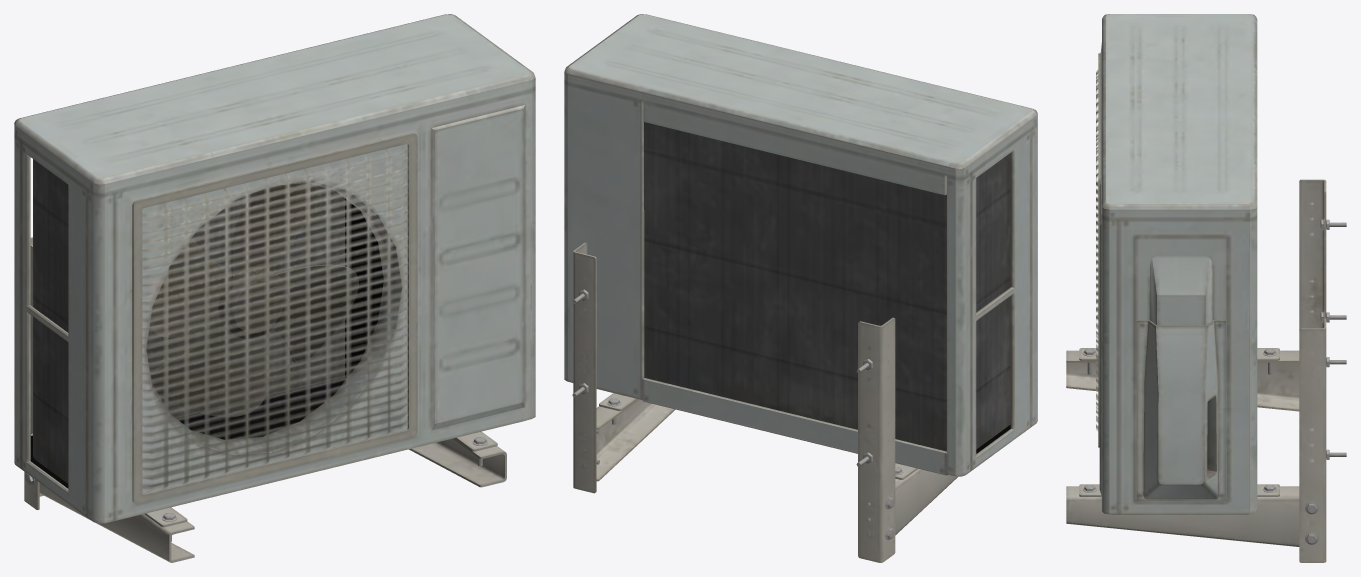
The model's file is ac-condenser.glb.
3 renders of one model, left to right at view 1: azimuth 30°, elevation 25°; view 2: azimuth 150°, elevation 25°; view 3: azimuth 270°, elevation 25°, orthographic. The views are drawn at different scales.
Parts seen in each view (by area): view 1: Conditioner, Grid_low.001, Propeller_low.001, 5_low.001, Beam1_low.001, 3_low.001, 4_low.001, 6_low.001, 7_low.001, Beam2_low.001; view 2: Conditioner, 5_low.001, Beam2_low.001, Beam1_low.001; view 3: Conditioner, 2_low.001, Beam2_low.001, Beam1_low.001, Grid_low.001, 7_low.001.
Boxes of the visible parts, x1,y1,x2,y2 form: Conditioner: [14, 14, 535, 523]; Grid_low.001: [142, 148, 408, 489]; Propeller_low.001: [149, 183, 358, 416]; 5_low.001: [33, 159, 344, 483]; Beam1_low.001: [39, 438, 506, 562]; 3_low.001: [30, 377, 344, 488]; 4_low.001: [345, 198, 383, 380]; 6_low.001: [218, 266, 287, 338]; 7_low.001: [144, 431, 497, 527]; Beam2_low.001: [24, 237, 43, 509]; Conditioner: [564, 14, 1037, 476]; 5_low.001: [644, 122, 1010, 451]; Beam2_low.001: [573, 242, 895, 562]; Beam1_low.001: [584, 399, 957, 535]; Conditioner: [1098, 14, 1257, 514]; 2_low.001: [1136, 320, 1225, 500]; Beam2_low.001: [1299, 179, 1326, 562]; Beam1_low.001: [1066, 350, 1313, 546]; Grid_low.001: [1096, 70, 1098, 430]; 7_low.001: [1079, 348, 1279, 496].
Size of the model in its own units: 0.9245 by 0.8 by 0.5367.
Materials: 1 (1 with a texture image).
